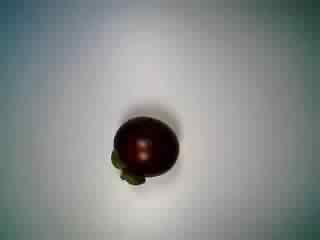mangosteen: (106, 111, 181, 186)
